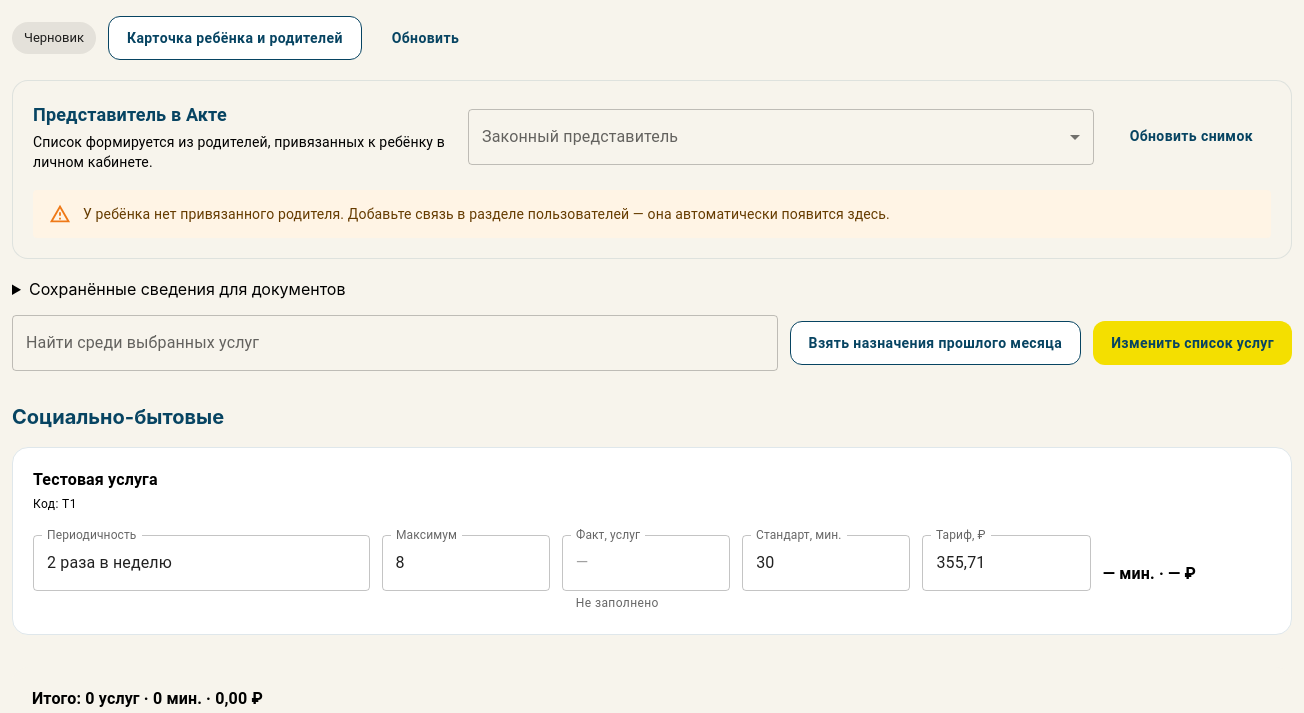
Test case: conflict never destroys entered facts
In the number field named "Фактически: Тестовая услуга": x=646, y=563 [562,535,730,591], type "5"
(page scrolled)
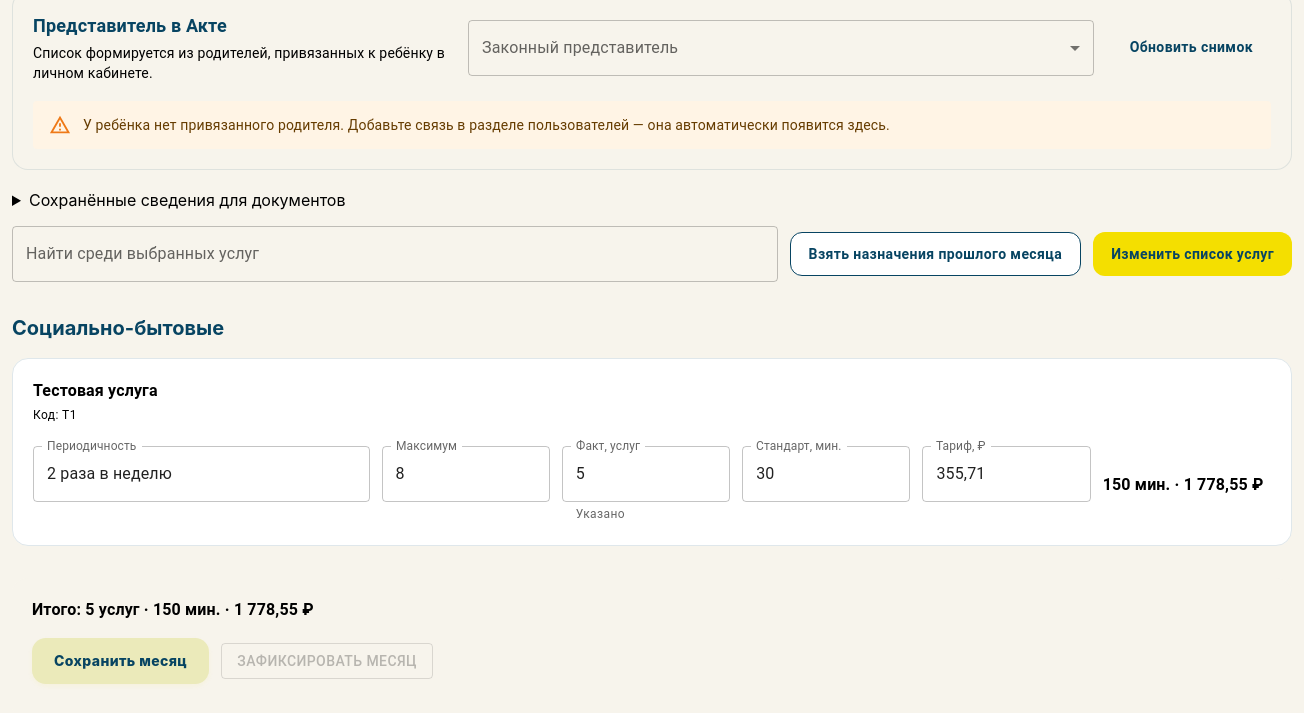
Click the button "Сохранить месяц": x=121, y=661 [32,638,209,684]
(page scrolled)
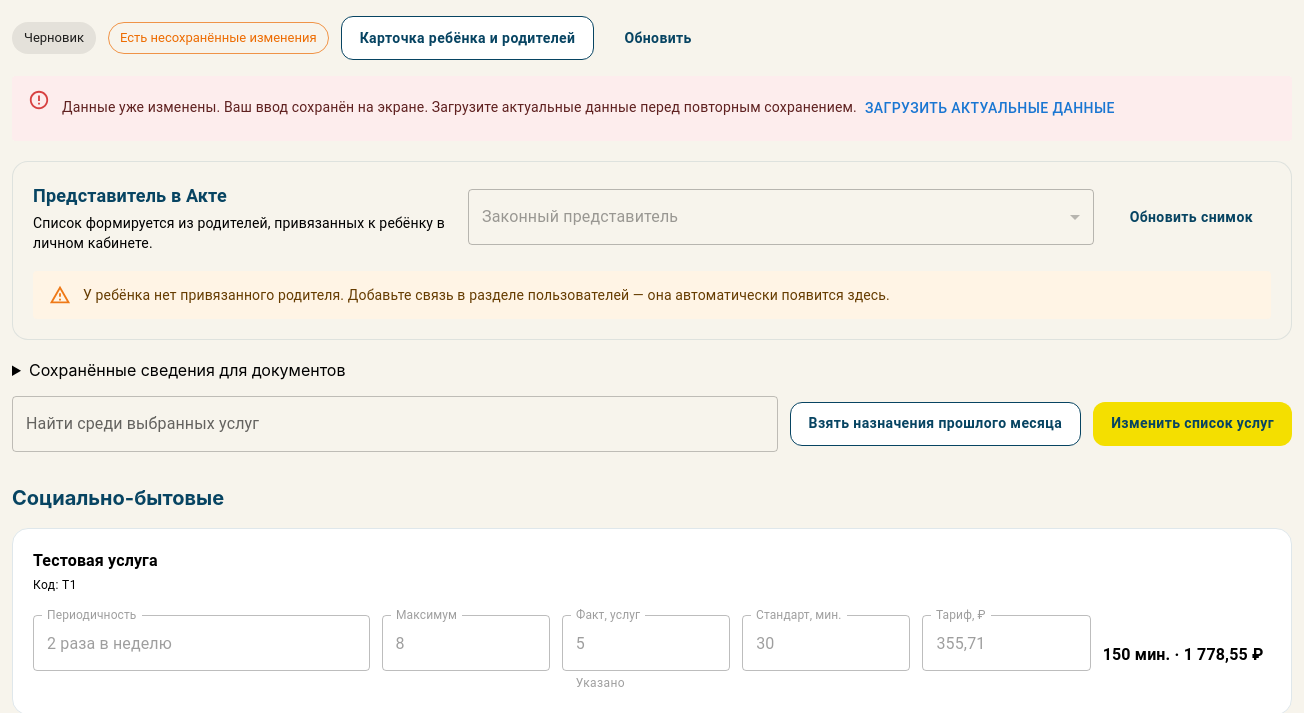
Check: the text "Данные уже изменены" is shown, box [62,99,857,115]
Check: the button "Загрузить актуальные данные" is shown, box [857,90,1123,126]
